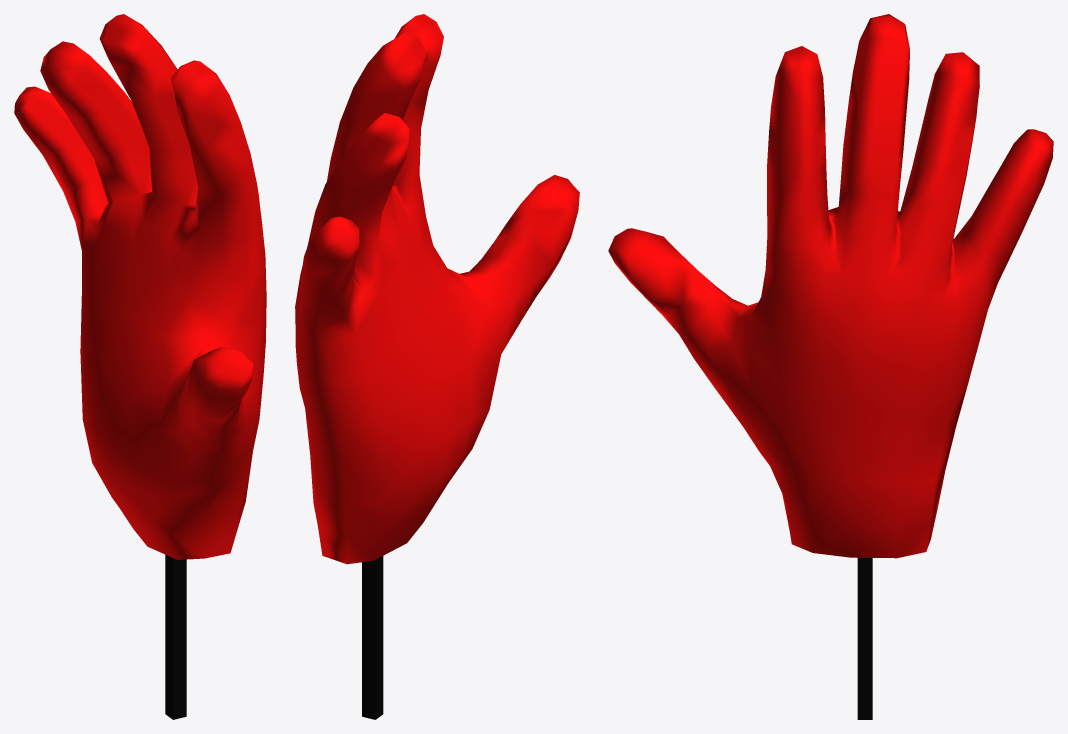
The model's file is Slap_4.obj.
The picture shows the model from 3 angles, left to right: view 1: azimuth 30°, elevation 25°; view 2: azimuth 150°, elevation 25°; view 3: azimuth 270°, elevation 25°; orthographic projection. The views are drawn at different scales.
Visible parts, largest first — view 1: MetalHand1, StickHolder1; view 2: MetalHand1, StickHolder1; view 3: MetalHand1, StickHolder1.
Boxes of the visible parts, x1,y1,x2,y2 form: MetalHand1: (14, 14, 266, 559); StickHolder1: (165, 554, 186, 719); MetalHand1: (295, 14, 579, 564); StickHolder1: (362, 556, 383, 719); MetalHand1: (608, 14, 1053, 558); StickHolder1: (857, 558, 872, 719).
Size of the model in its own units: 1.17 by 4.99 by 2.95.
